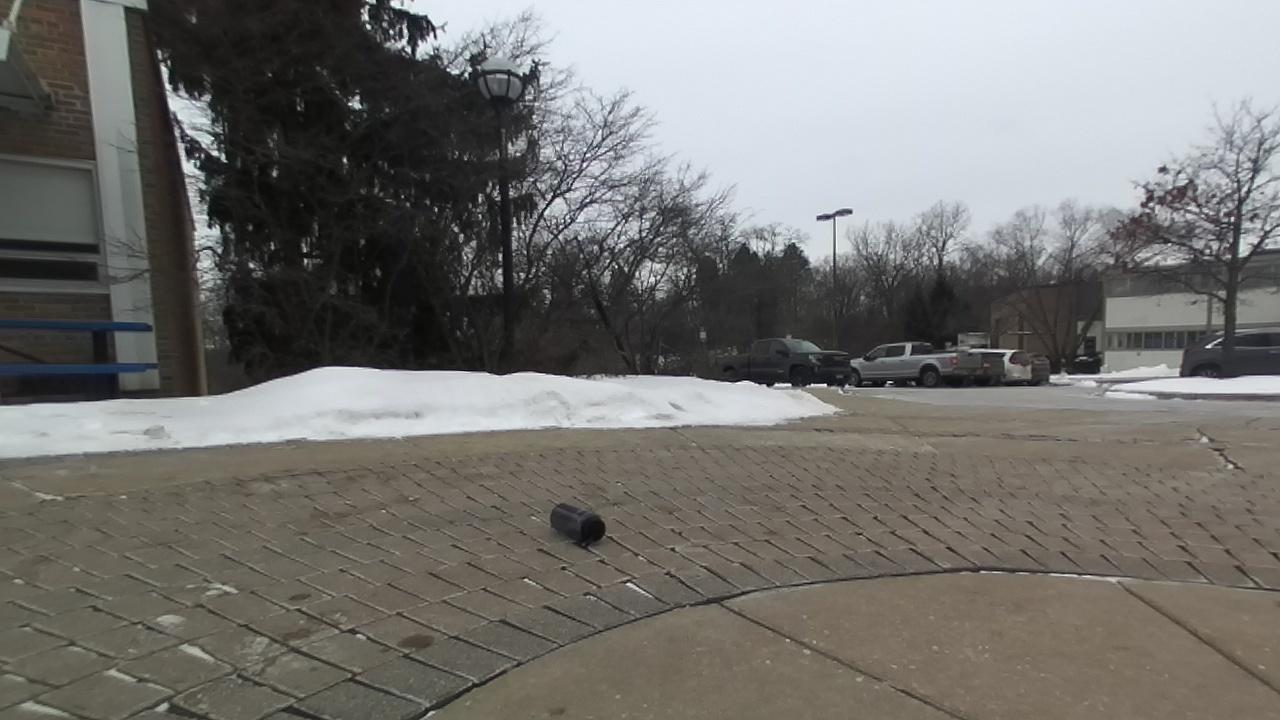bottle: (551, 503, 604, 547)
